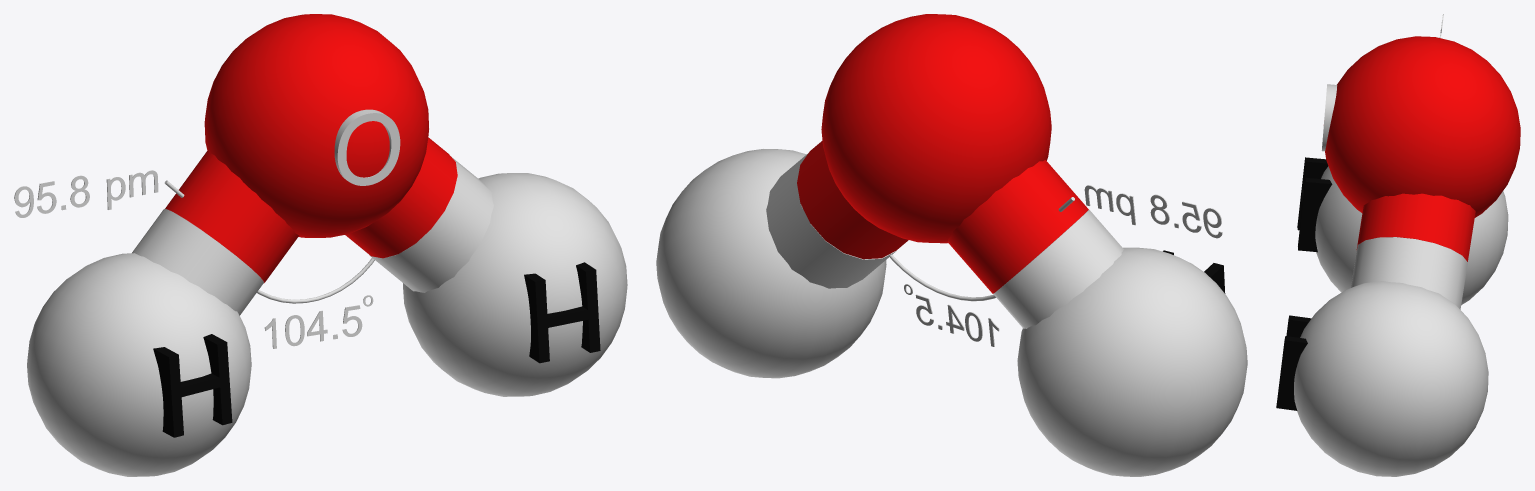
File: uploads_files_2040702_waterLabel.FBX
3 views of the same model, side by side, from view 1: azimuth 30°, elevation 25°; view 2: azimuth 150°, elevation 25°; view 3: azimuth 270°, elevation 25° (orthographic). The views are drawn at different scales.
Parts seen in each view (by area): view 1: Sphere001, Sphere014, Sphere015, Cylinder022, Cylinder028, Cylinder023, Cylinder029, Text003, Text011, O009, Text014, Text012; view 2: Sphere001, Sphere014, Sphere015, Cylinder022, Cylinder023, Cylinder028, Cylinder029, Text014, Text012; view 3: Sphere015, Sphere001, Sphere014, Cylinder028, Cylinder029, Text003, Text011, O009.
Boxes of the visible parts, bbox=[...] form: Sphere001: bbox=[204, 14, 428, 237]; Sphere014: bbox=[27, 253, 251, 476]; Sphere015: bbox=[403, 173, 627, 396]; Cylinder022: bbox=[165, 150, 298, 282]; Cylinder028: bbox=[369, 156, 493, 292]; Cylinder023: bbox=[132, 208, 264, 315]; Cylinder029: bbox=[345, 137, 457, 258]; Text003: bbox=[153, 334, 232, 437]; Text011: bbox=[524, 262, 600, 363]; O009: bbox=[334, 109, 400, 185]; Text014: bbox=[14, 170, 158, 217]; Text012: bbox=[264, 305, 362, 348]; Sphere001: bbox=[821, 14, 1051, 243]; Sphere014: bbox=[1017, 247, 1247, 476]; Sphere015: bbox=[656, 149, 886, 378]; Cylinder022: bbox=[948, 160, 1088, 293]; Cylinder023: bbox=[993, 209, 1123, 328]; Cylinder028: bbox=[766, 153, 896, 288]; Cylinder029: bbox=[797, 140, 908, 259]; Text014: bbox=[1084, 185, 1222, 238]; Text012: bbox=[915, 294, 999, 346]; Sphere015: bbox=[1294, 281, 1488, 476]; Sphere001: bbox=[1325, 36, 1520, 217]; Sphere014: bbox=[1315, 166, 1508, 304]; Cylinder028: bbox=[1351, 237, 1467, 309]; Cylinder029: bbox=[1356, 193, 1475, 261]; Text003: bbox=[1297, 157, 1332, 252]; Text011: bbox=[1276, 315, 1311, 410]; O009: bbox=[1321, 84, 1337, 151].
Bounding box in the file's own units: 46.17 × 30.5 × 19.62.
